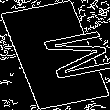M_W: (11, 26, 99, 84)
